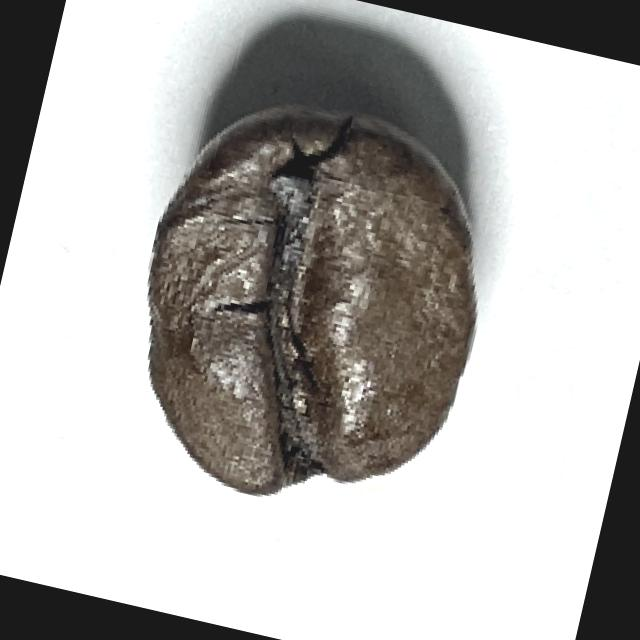bean: (93, 72, 520, 542)
